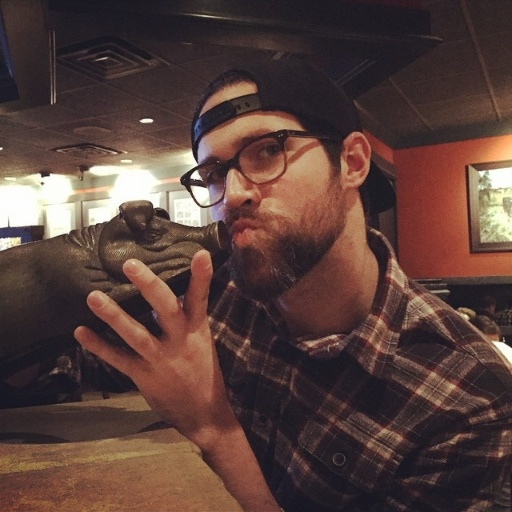hand: (82, 232, 265, 481)
